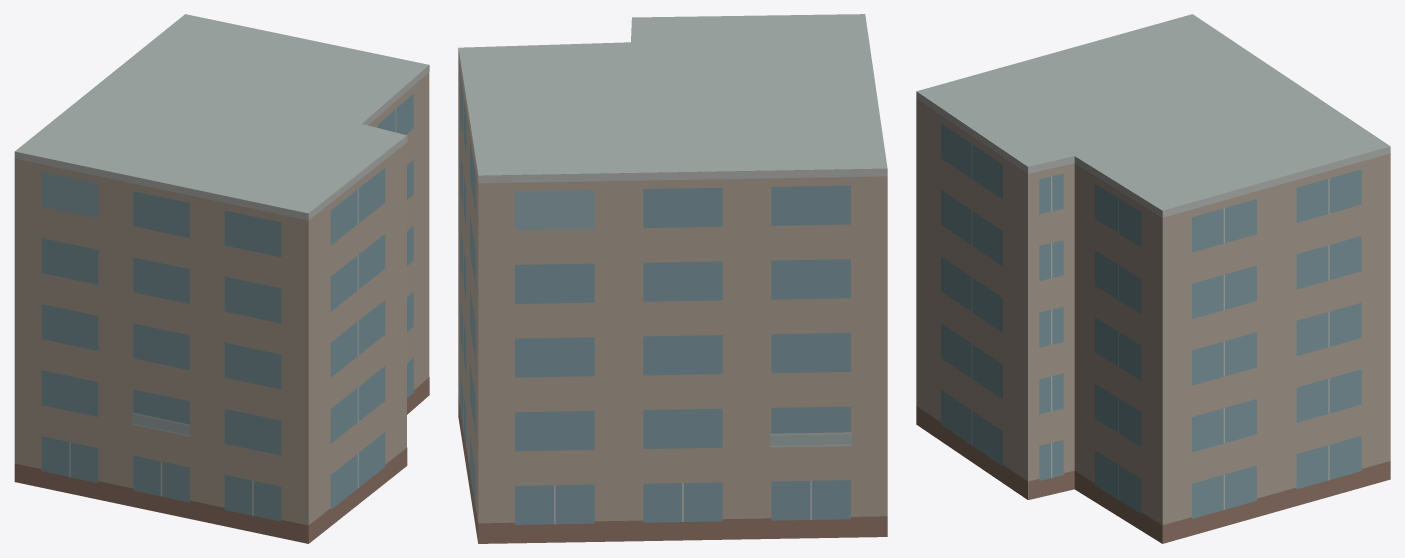
Rendered from survey-upis-33035930.glb.
3 views of the same model, side by side, from view 1: azimuth 30°, elevation 25°; view 2: azimuth 150°, elevation 25°; view 3: azimuth 270°, elevation 25° (orthographic). The views are drawn at different scales.
Parts seen in each view (by area): view 1: survey-upis-33035930.tmp; view 2: survey-upis-33035930.tmp; view 3: survey-upis-33035930.tmp.
Boxes of the visible parts, x1,y1,x2,y2 form: survey-upis-33035930.tmp: (14,14,429,543); survey-upis-33035930.tmp: (458,14,887,543); survey-upis-33035930.tmp: (916,14,1390,543).
Size of the model in its own units: 14.57 by 11.5 by 14.85.
